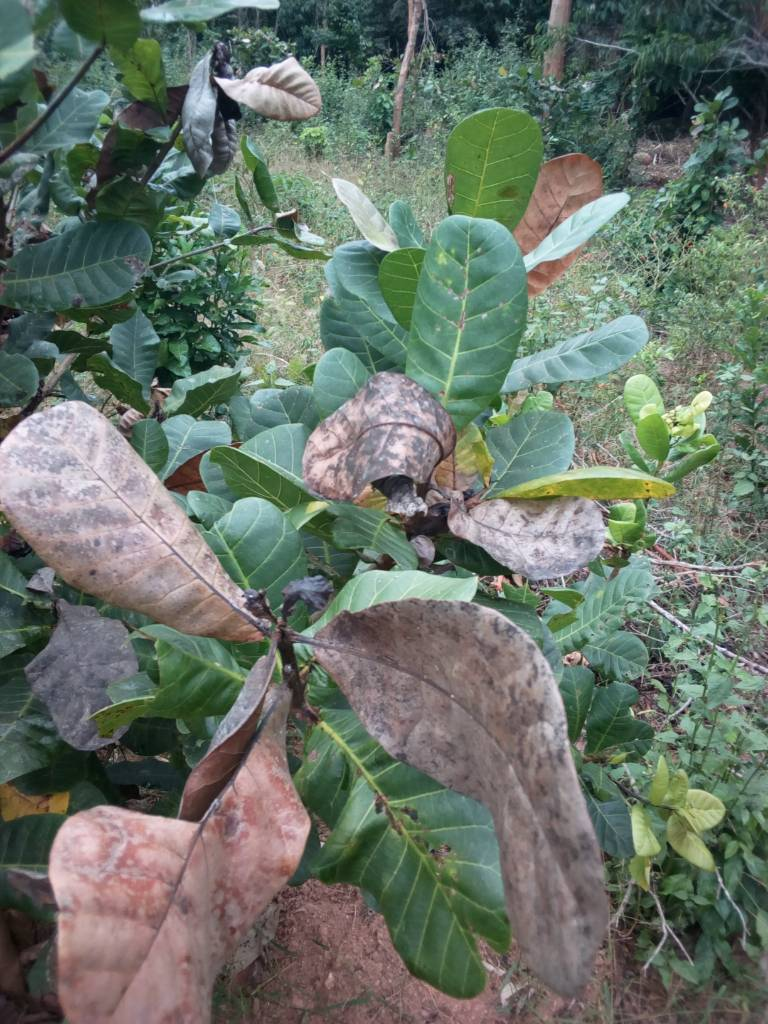Die-black: (315, 588, 646, 1016), (43, 639, 321, 1024), (1, 385, 262, 669), (450, 478, 640, 596), (303, 365, 467, 501)
